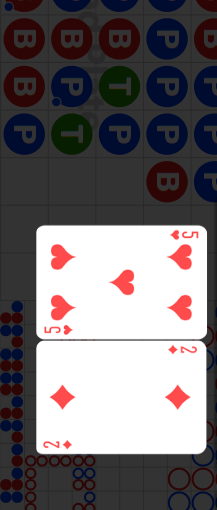2D: (42, 438, 75, 450)
5H: (168, 229, 200, 241)
